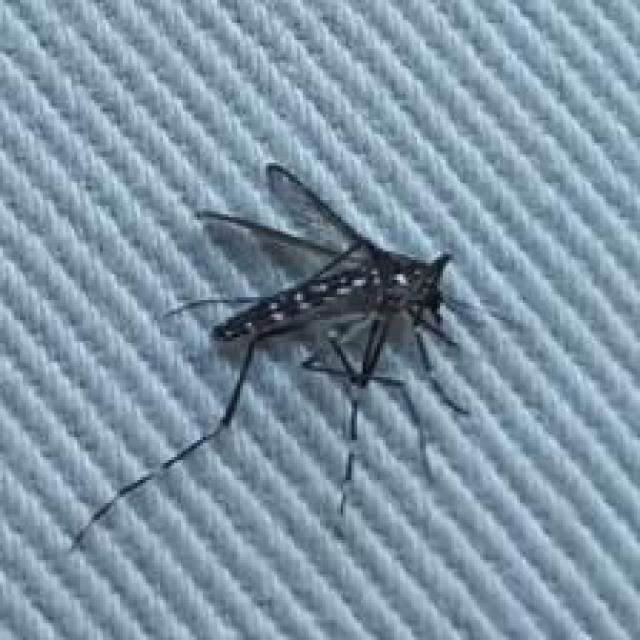Aedes albopictus: (67, 161, 482, 553)
